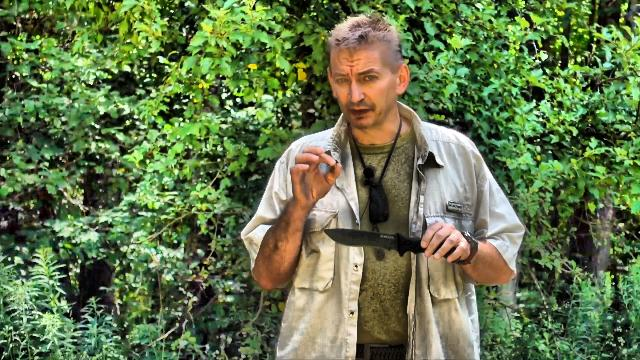knife: (320, 219, 462, 265)
